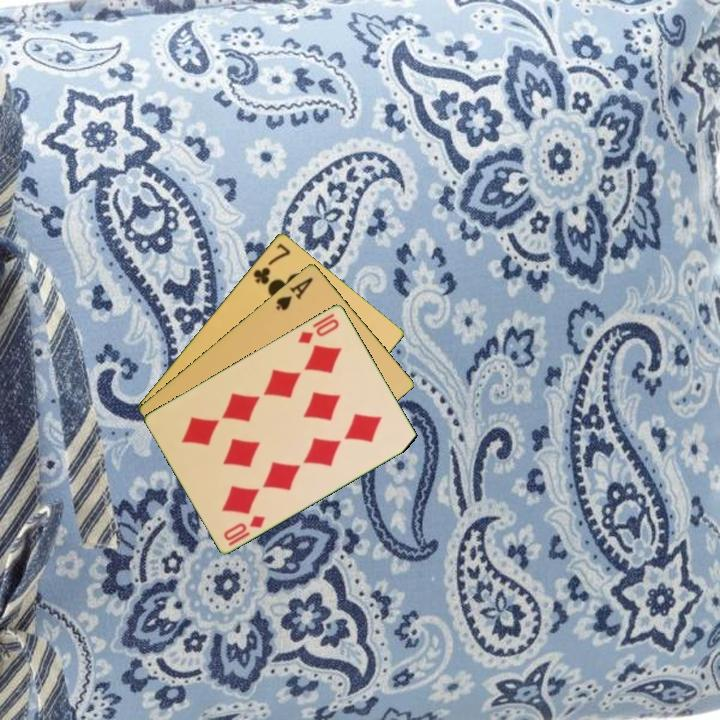10d: (220, 511, 268, 549), (294, 315, 342, 346)
7c: (249, 239, 293, 287)
As: (272, 273, 316, 313)
